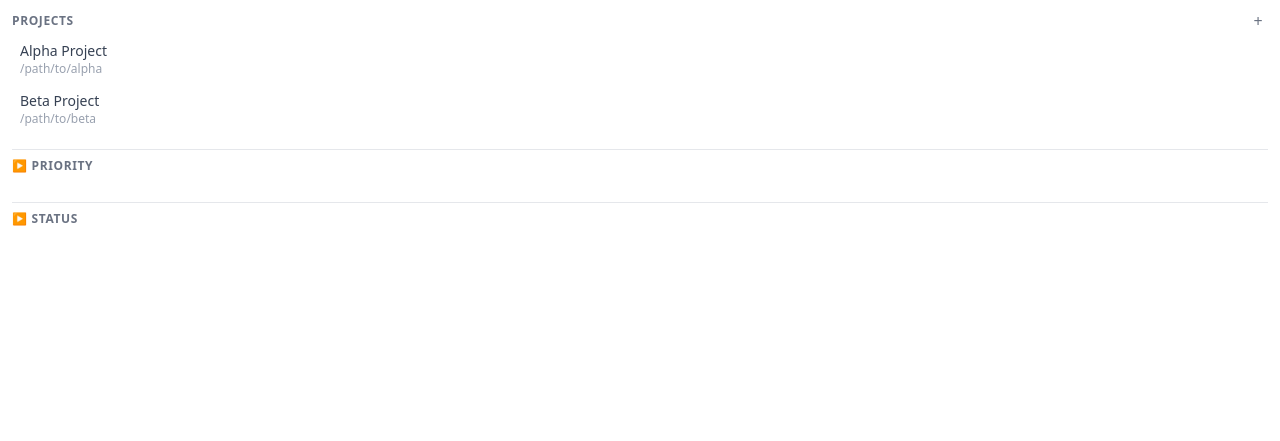
Test case: Sidebar › shows status filter options
The width and height of the screenshot is (1280, 441).
Click the button "▶ Status".
click(45, 219)  # box [12,211,78,227]
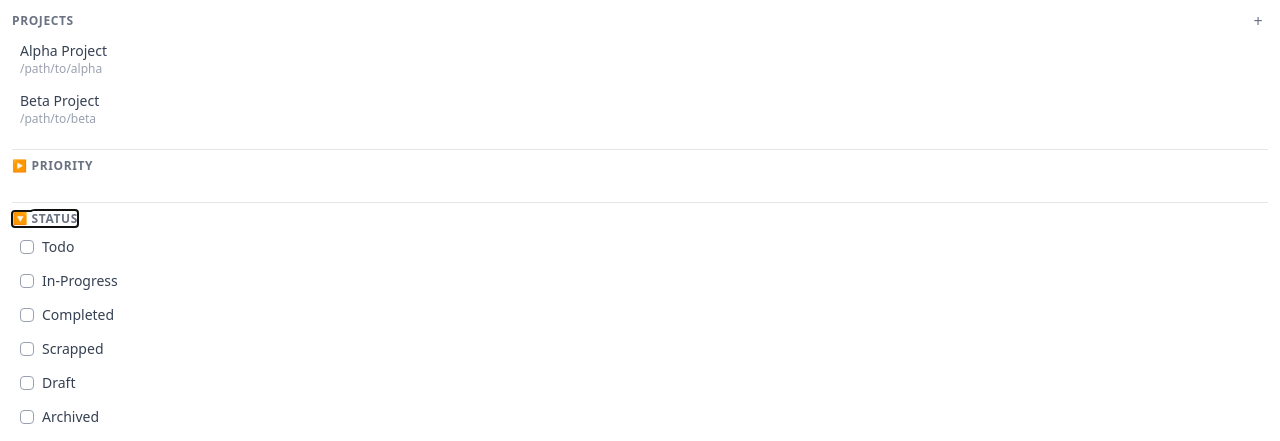
expect the button "todo" is shown: met, box [12,231,1268,263]
expect the button "in-progress" is shown: met, box [12,265,1268,297]
expect the button "completed" is shown: met, box [12,299,1268,331]
